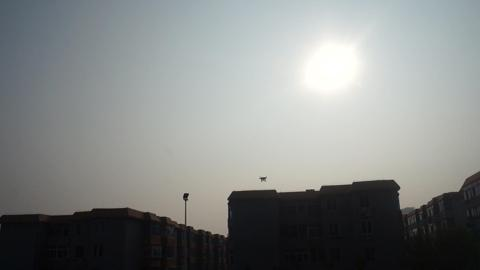UAV: (259, 176, 268, 182)
